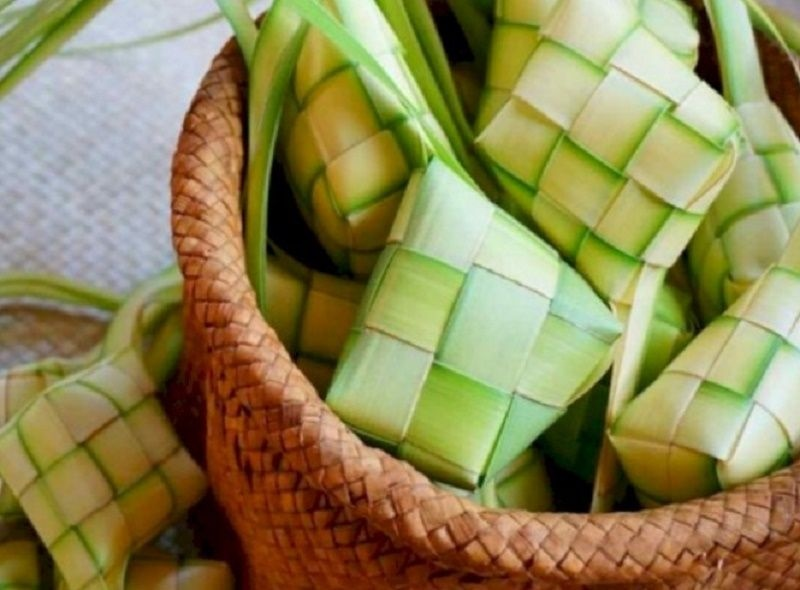ketupat: (322, 161, 614, 492), (1, 348, 211, 584)
